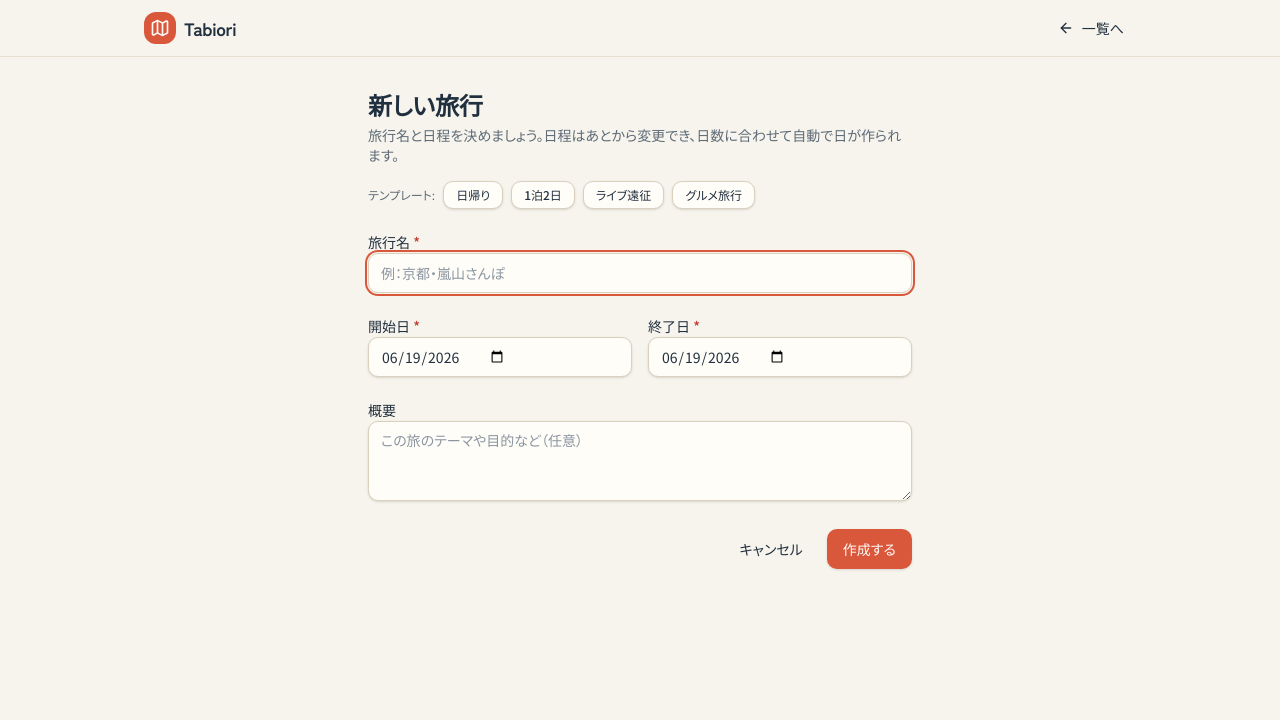
Test: TripFormPage (create) › shows a validation error when the title is empty
The width and height of the screenshot is (1280, 720).
Click the button "作成する": [869, 549] box top-left (827, 529), bottom-right (912, 569)
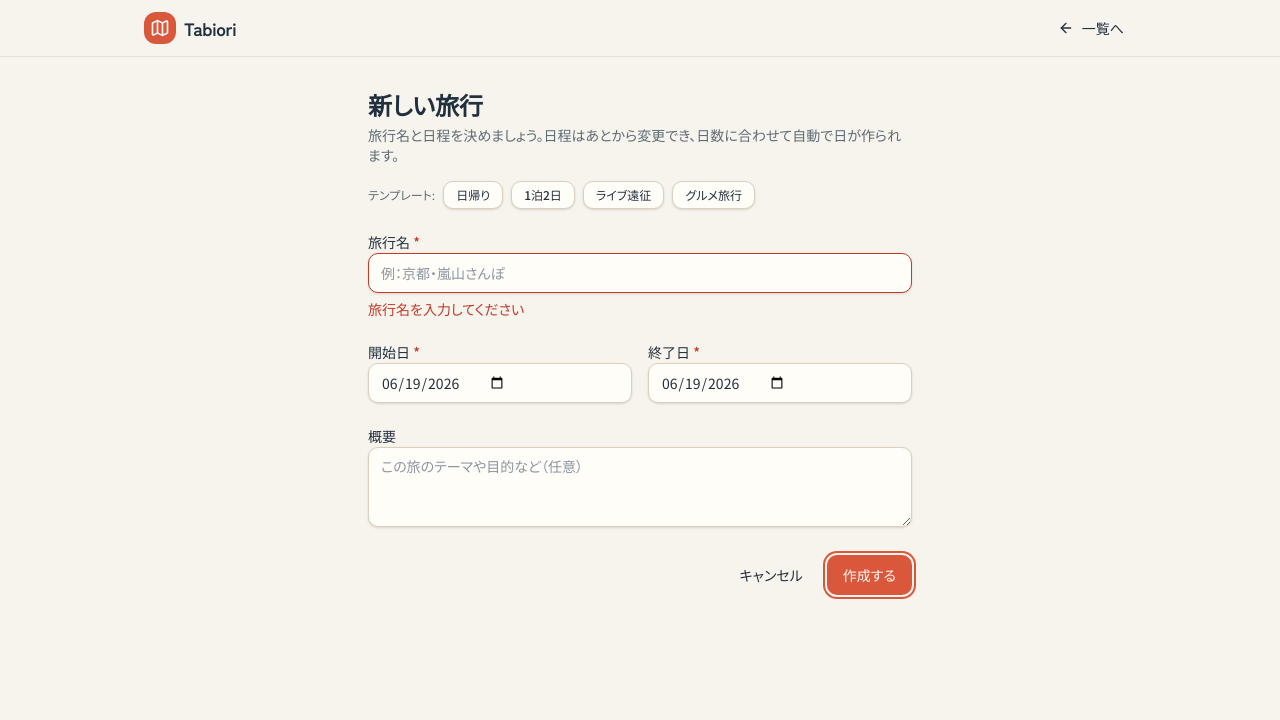
Now the text "旅行名を入力してください" is shown, box top-left (368, 299), bottom-right (524, 319)
